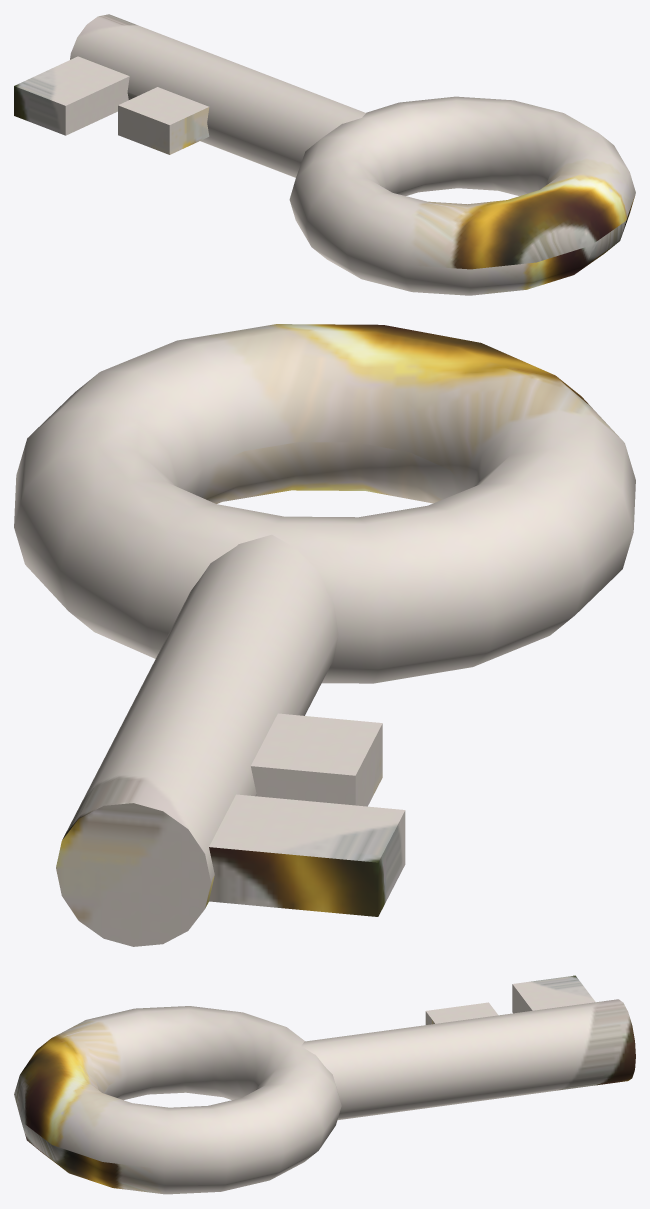
The model's file is key.fbx.
3 renders of one model, top to bottom at view 1: azimuth 30°, elevation 25°; view 2: azimuth 150°, elevation 25°; view 3: azimuth 270°, elevation 25°, orthographic. The views are drawn at different scales.
Visible parts, largest first — view 1: key; view 2: key; view 3: key.
Part boxes in pixels (left/top/right/bottom): key: left=14, top=14, right=635, bottom=295; key: left=14, top=324, right=635, bottom=946; key: left=14, top=975, right=635, bottom=1194.
Bounding box in the file's own units: 0.1684 × 0.0345 × 0.2462.
